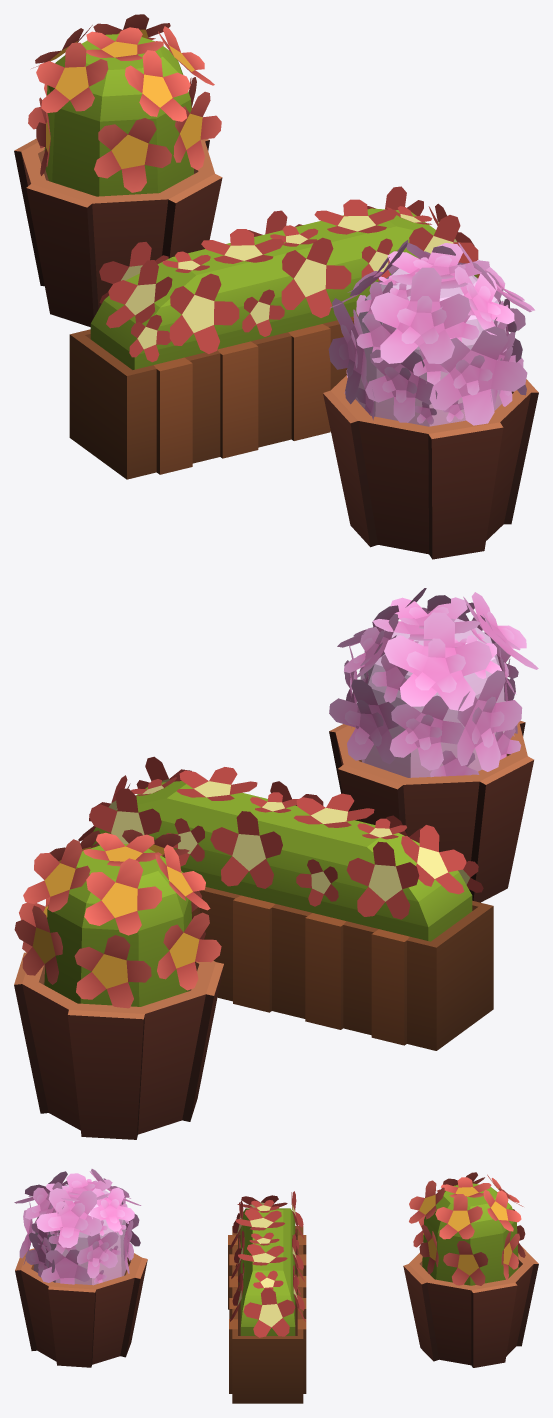
File: red_planter.fbx
3 views of the same model, one above another, from view 1: azimuth 30°, elevation 25°; view 2: azimuth 150°, elevation 25°; view 3: azimuth 270°, elevation 25° (orthographic). The views are drawn at different scales.
Parts seen in each view (by area): view 1: Cylinder.464, Cylinder.013, Cylinder.429; view 2: Cylinder.464, Cylinder.429, Cylinder.013; view 3: Cylinder.013, Cylinder.429, Cylinder.464.
Part boxes in pixels (x1,y1,x2,y2): Cylinder.464: [69, 186, 479, 479]; Cylinder.013: [323, 239, 538, 559]; Cylinder.429: [14, 14, 222, 326]; Cylinder.464: [78, 756, 493, 1050]; Cylinder.429: [14, 829, 223, 1139]; Cylinder.013: [329, 588, 538, 902]; Cylinder.013: [14, 1169, 147, 1367]; Cylinder.429: [403, 1172, 538, 1367]; Cylinder.464: [228, 1191, 306, 1403].
Bounding box in the file's own units: 219 × 155 × 428.
